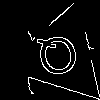Q: (34, 31, 83, 87)
